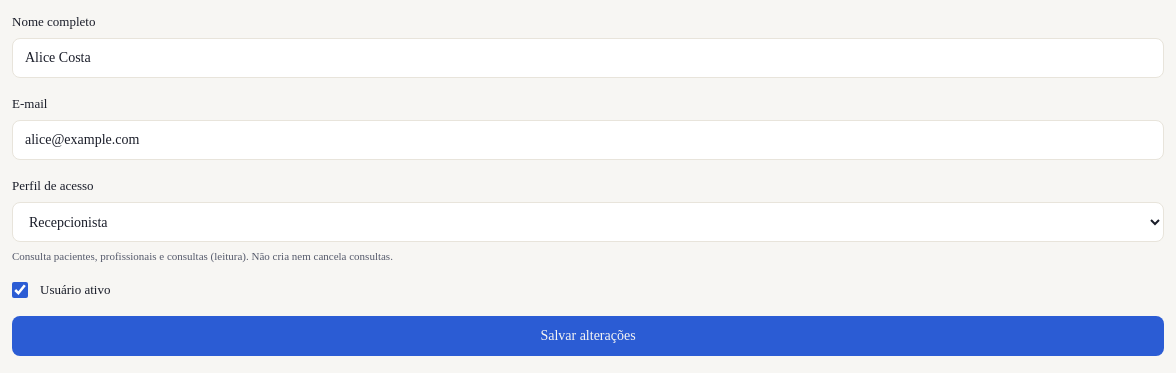
Test case: UserForm (integration) — edit mode › shows role validation error in edit mode
Expected: the field with test id "user-form-fullname" holds "Alice Costa", top-left (12, 38), bottom-right (1164, 78)
Select "" in the dropdown with test id "user-form-role": [588, 222] box top-left (12, 202), bottom-right (1164, 242)
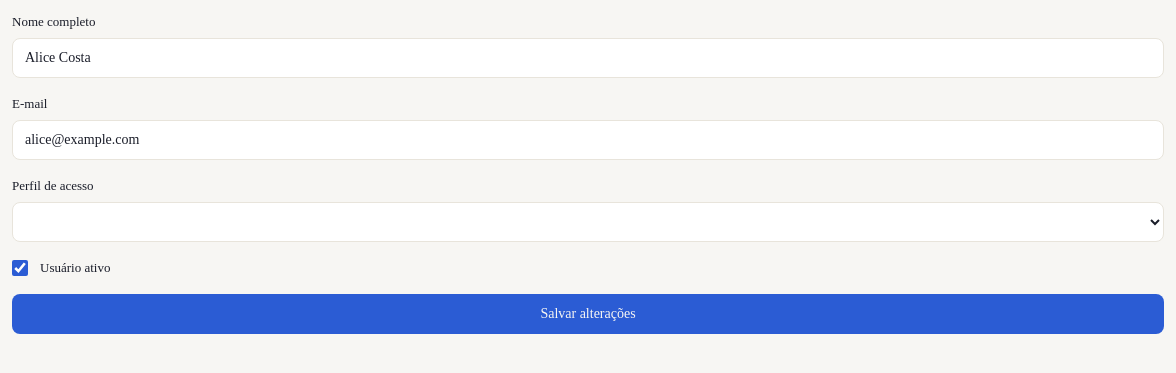
Click the button with test id "user-form-submit": [588, 314] box top-left (12, 294), bottom-right (1164, 334)
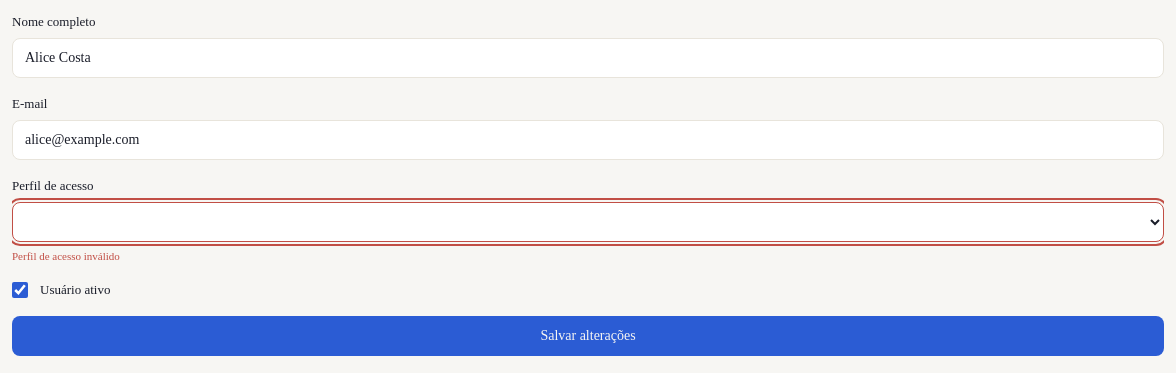
Now the text "Perfil de acesso inválido" is shown, box top-left (12, 250), bottom-right (120, 262)
